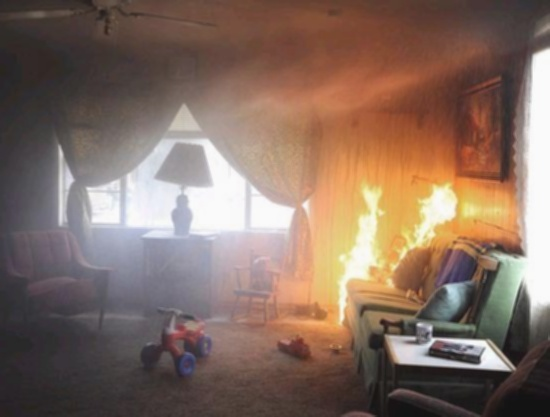fire: (318, 171, 464, 307)
